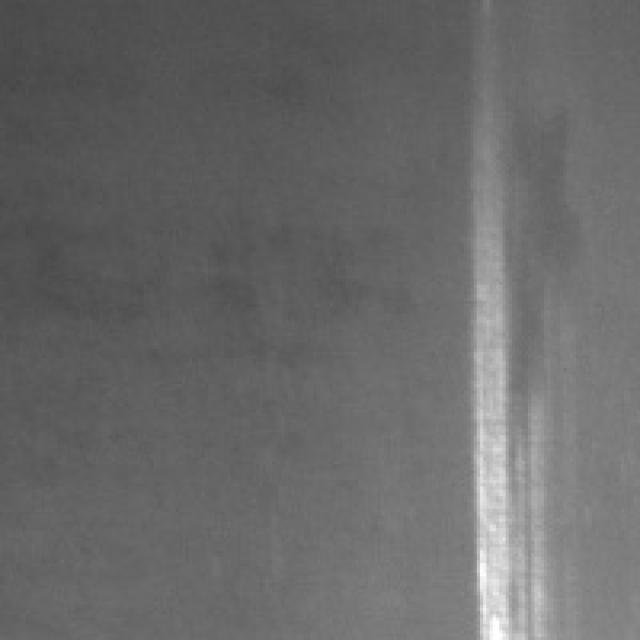scratches: (476, 137, 554, 634)
